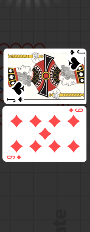7S: (5, 96, 23, 104)
9D: (5, 154, 22, 161)
